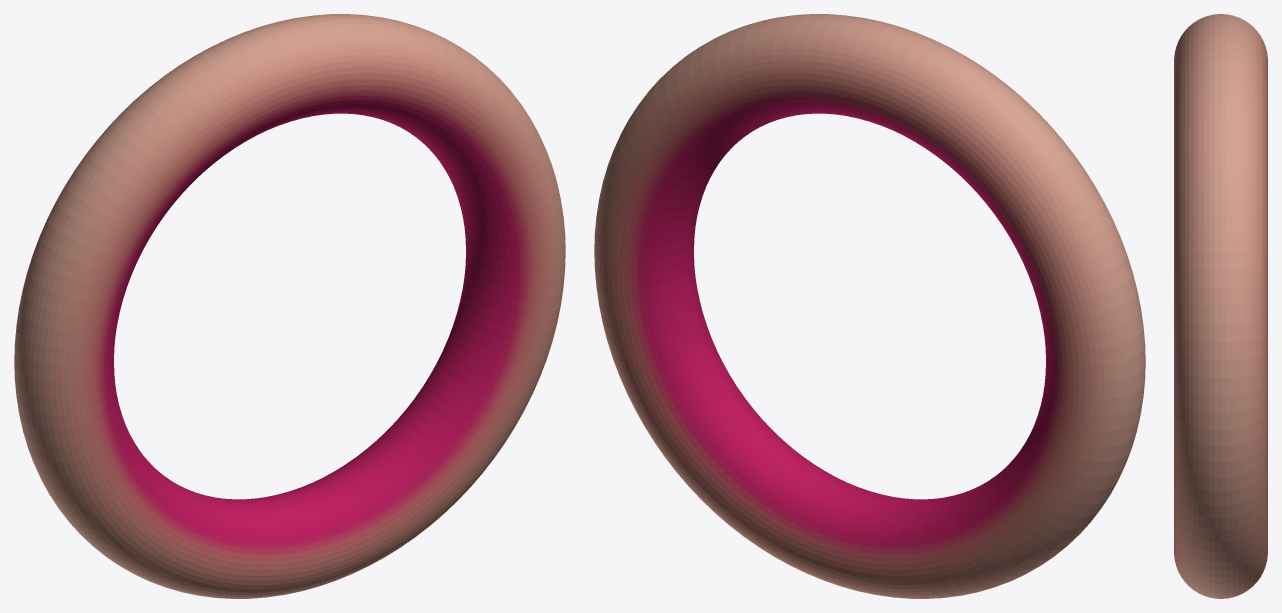
The picture shows the model from 3 angles, left to right: view 1: azimuth 30°, elevation 25°; view 2: azimuth 150°, elevation 25°; view 3: azimuth 270°, elevation 25°; orthographic projection. The views are drawn at different scales.
Parts seen in each view (by area): view 1: world; view 2: world; view 3: world.
Part boxes in pixels (left/top/right/bottom): world: left=14, top=14, right=565, bottom=598; world: left=594, top=14, right=1145, bottom=598; world: left=1174, top=14, right=1267, bottom=598.
Size of the model in its own units: 35.73 by 35.73 by 5.72.
